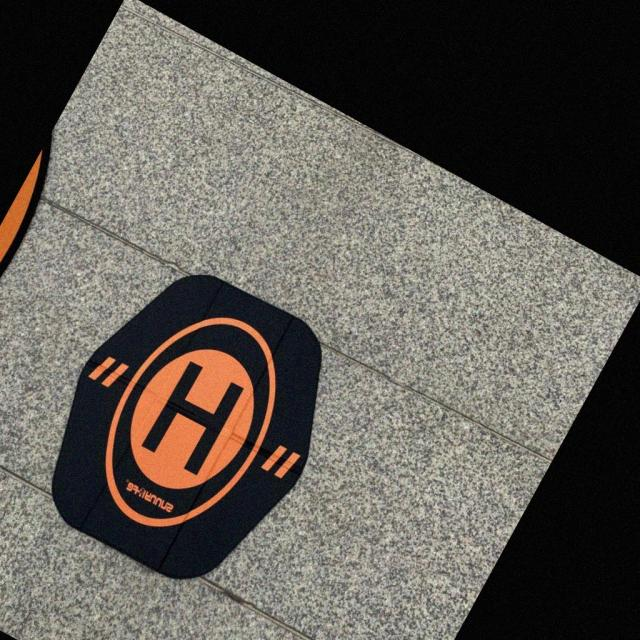helipad: (101, 312, 278, 528)
